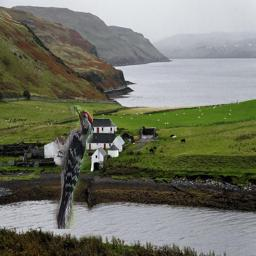Woodpecker: (53, 105, 93, 229)
